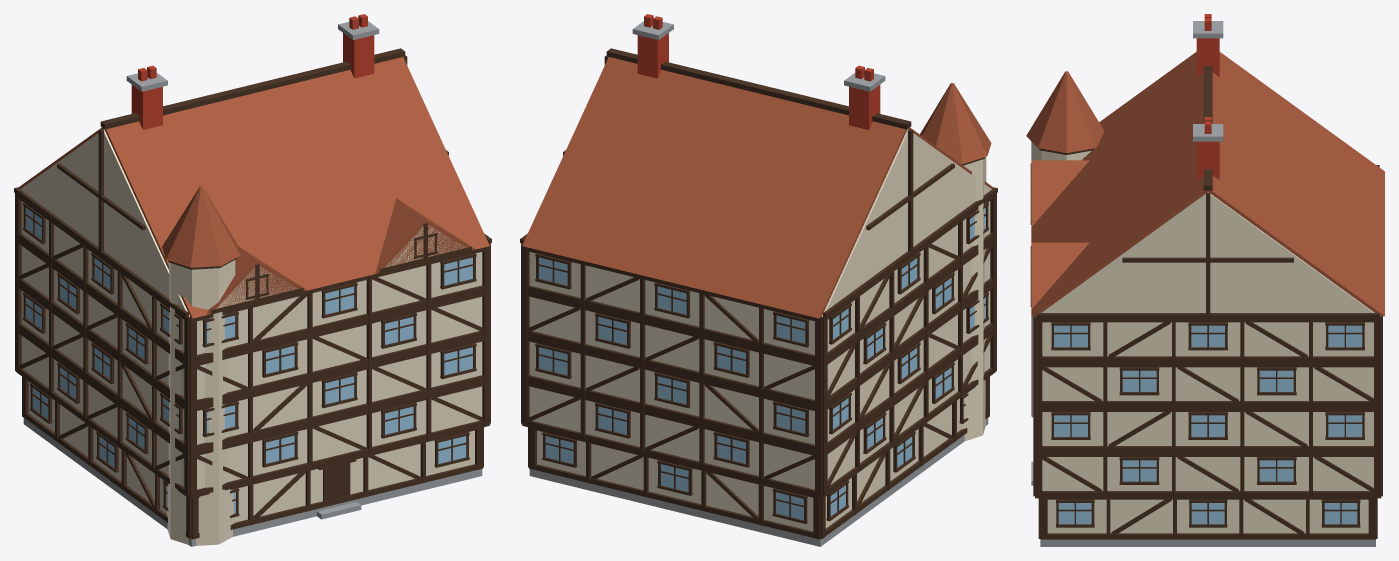
The model's file is house-2x2-5f-tudor-a.glb.
3 views of the same model, side by side, from view 1: azimuth 30°, elevation 25°; view 2: azimuth 150°, elevation 25°; view 3: azimuth 270°, elevation 25° (orthographic).
Parts seen in each view (by area): view 1: house-2x2-5f-tudor-a; view 2: house-2x2-5f-tudor-a; view 3: house-2x2-5f-tudor-a.
Part boxes in pixels (left/top/right/bottom): house-2x2-5f-tudor-a: left=14, top=14, right=491, bottom=546; house-2x2-5f-tudor-a: left=520, top=14, right=997, bottom=546; house-2x2-5f-tudor-a: left=1026, top=14, right=1384, bottom=546.
Size of the model in its own units: 2.03 by 2.54 by 2.03.
1 material, 1 textured.
